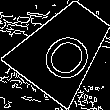O_NE: (29, 16, 97, 82)
